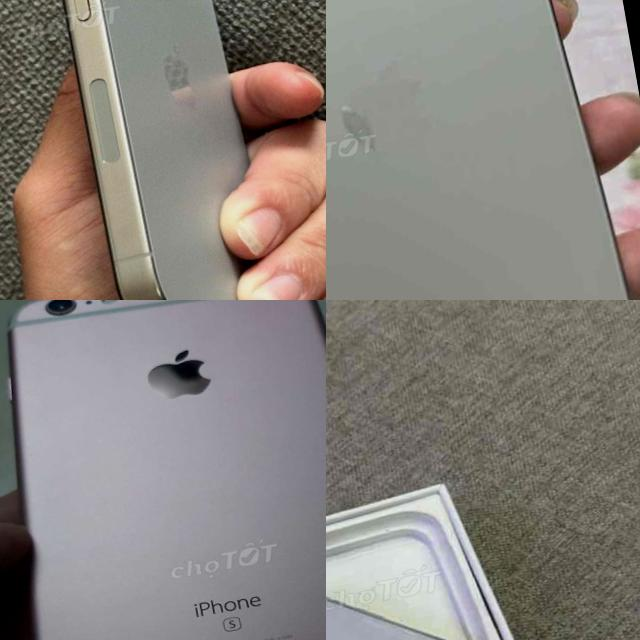gen_15: (326, 0, 640, 300), (0, 0, 304, 300)
gen_6: (0, 300, 326, 640)
gen_x_xs: (326, 486, 640, 640)
